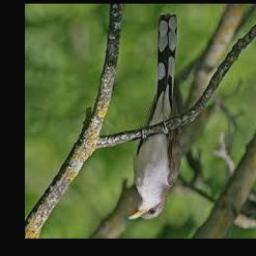Cuckoo: (127, 14, 183, 220)
